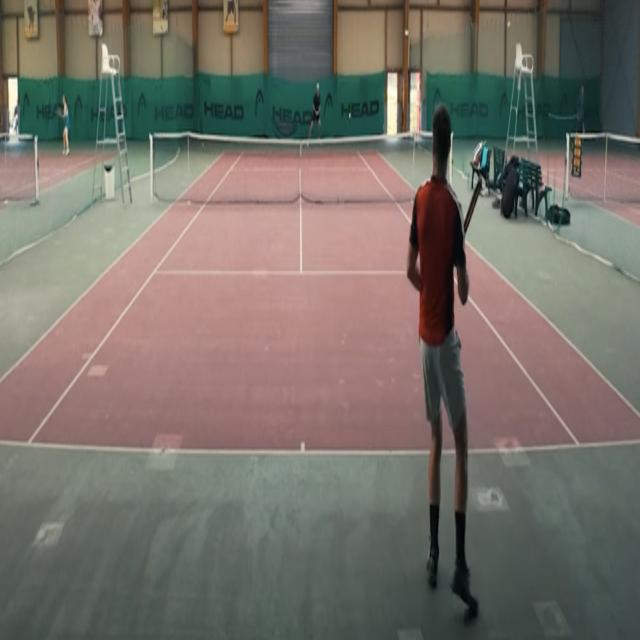ball: (349, 113, 351, 120)
